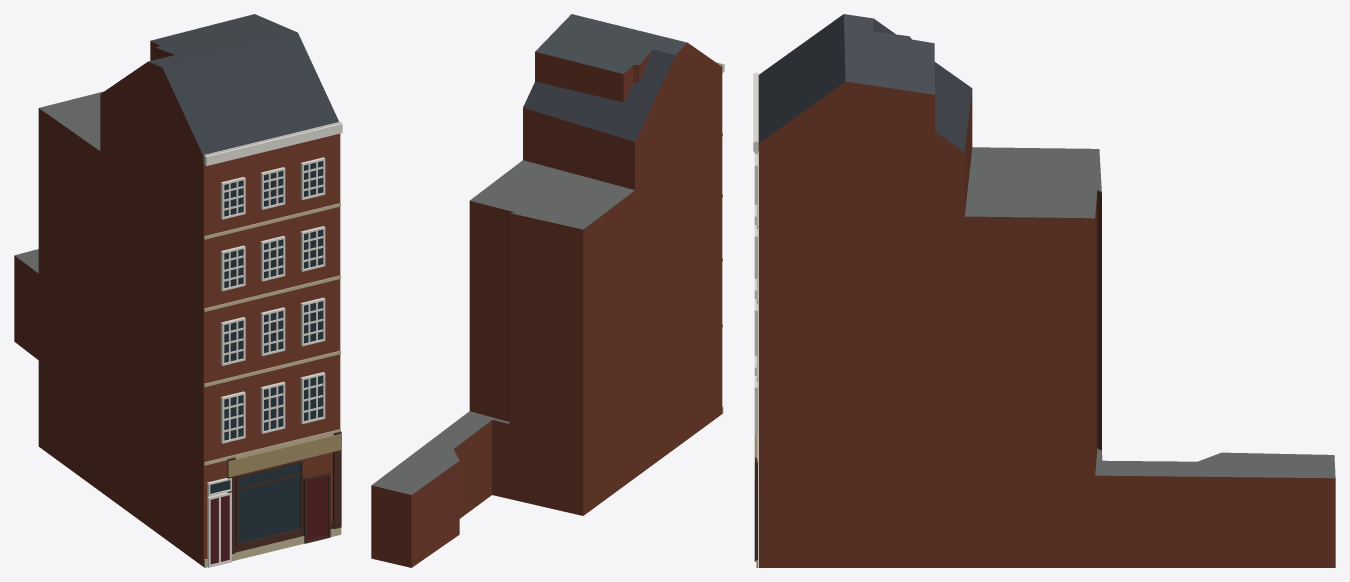
Rendered from recipe-bilder-092394.glb.
3 renders of one model, left to right at view 1: azimuth 30°, elevation 25°; view 2: azimuth 150°, elevation 25°; view 3: azimuth 270°, elevation 25°, orthographic. The views are drawn at different scales.
Parts seen in each view (by area): view 1: bilder-092394; view 2: bilder-092394; view 3: bilder-092394.
Boxes of the visible parts, bbox=[...] form: bilder-092394: bbox=[14, 14, 342, 567]; bilder-092394: bbox=[371, 14, 724, 567]; bilder-092394: bbox=[753, 14, 1335, 567].
Size of the model in its own units: 5.55 by 18.25 by 19.8.
